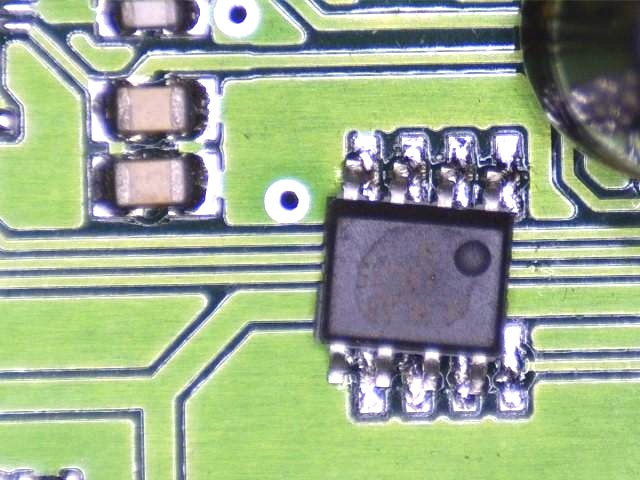pcb_defect: (313, 131, 528, 418)
